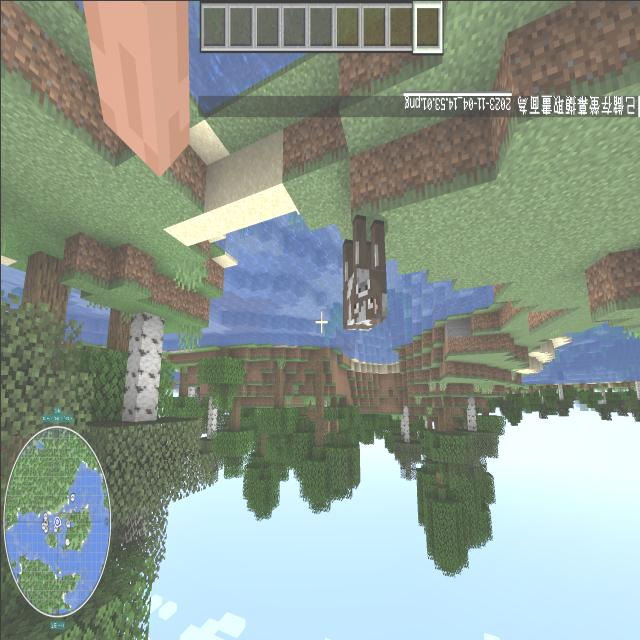cow: (324, 198, 394, 352)
